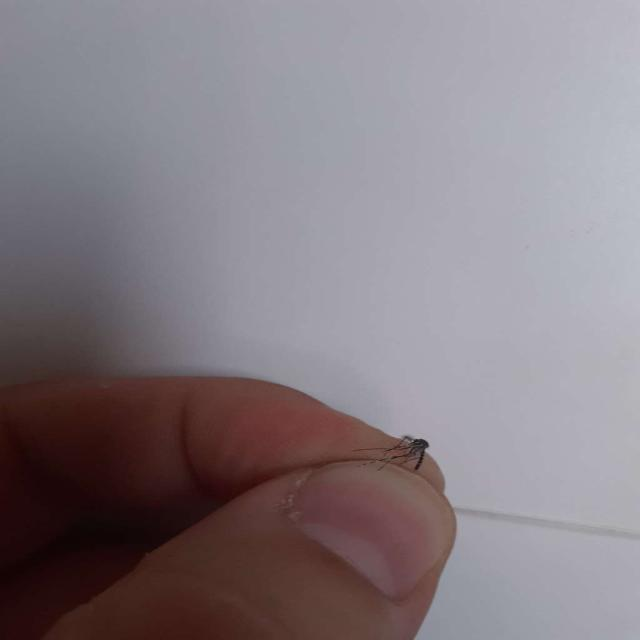albopictus: (340, 427, 432, 480)
